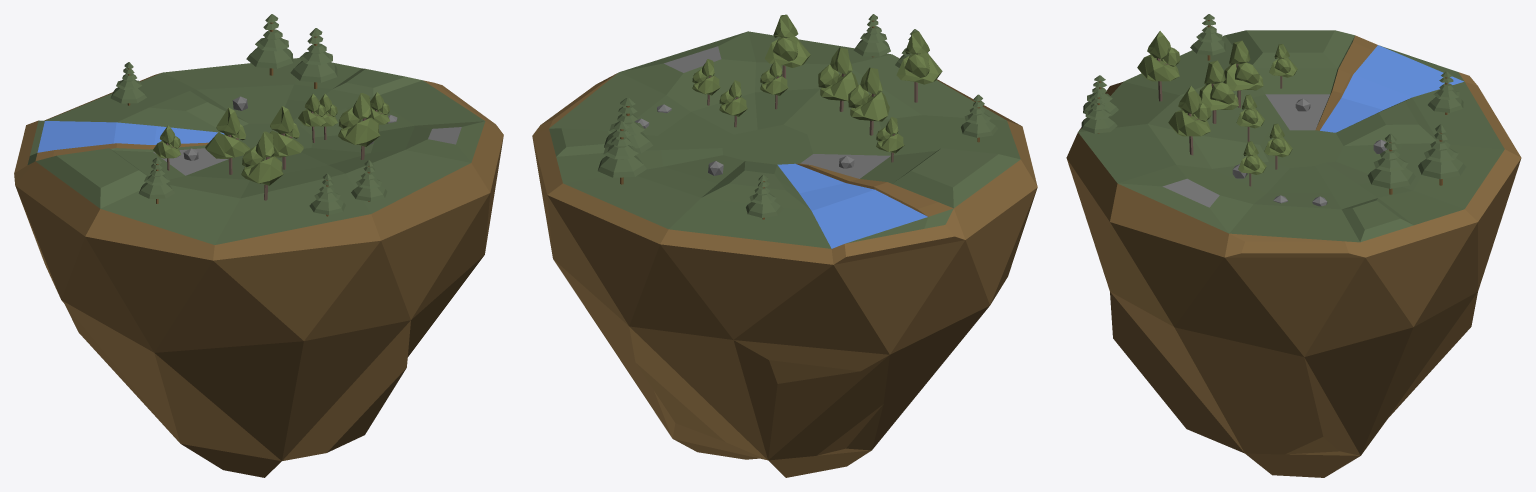
File: forestWater.glb
3 views of the same model, side by side, from view 1: azimuth 30°, elevation 25°; view 2: azimuth 150°, elevation 25°; view 3: azimuth 270°, elevation 25° (orthographic). The views are drawn at different scales.
Visible parts, largest first — view 1: planet, Tree Type4 01 Model.009, Tree Type4 01 Model.010, Cone.006, Cone.005, Tree Type4 01 Model.006, Tree Type4 01 Model.008, Cone.002, Cone.003, Cone.004, Cone.001, Tree Type4 01 Model.005 (+1 smaller); view 2: planet, Tree Type4 01 Model.006, Cone.006, Tree Type4 01 Model.009, Tree Type4 01 Model.008, Tree Type4 01 Model.010, Cone.005, Cone.002, Cone.001, Cone.003, Tree Type4 01 Model.005, Tree Type4 01 Model.007 (+2 smaller); view 3: planet, Tree Type4 01 Model.009, Tree Type4 01 Model.010, Cone.006, Cone.005, Tree Type4 01 Model.006, Tree Type4 01 Model.008, Cone.001, Cone.002, Cone.003, Tree Type4 01 Model, Tree Type4 01 Model.005 (+3 smaller).
Boxes of the visible parts, <box> form: planet: <box>14,58,503,477</box>; Tree Type4 01 Model.009: <box>241,131,283,200</box>; Tree Type4 01 Model.010: <box>338,93,380,159</box>; Cone.006: <box>246,14,293,75</box>; Cone.005: <box>290,28,337,88</box>; Tree Type4 01 Model.006: <box>205,107,249,174</box>; Tree Type4 01 Model.008: <box>270,106,303,169</box>; Cone.002: <box>138,157,174,203</box>; Cone.003: <box>110,62,146,105</box>; Cone.004: <box>309,173,345,216</box>; Cone.001: <box>351,160,387,201</box>; Tree Type4 01 Model.005: <box>298,94,326,142</box>; planet: <box>532,31,1037,477</box>; Tree Type4 01 Model.006: <box>848,67,889,135</box>; Cone.006: <box>598,121,646,184</box>; Tree Type4 01 Model.009: <box>896,31,942,102</box>; Tree Type4 01 Model.008: <box>818,47,858,111</box>; Tree Type4 01 Model.010: <box>764,14,810,78</box>; Cone.005: <box>604,97,652,153</box>; Cone.002: <box>961,94,997,142</box>; Cone.001: <box>853,14,890,57</box>; Cone.003: <box>746,174,782,219</box>; Tree Type4 01 Model.005: <box>760,59,788,109</box>; Tree Type4 01 Model.007: <box>692,59,720,105</box>; planet: <box>1066,30,1521,477</box>; Tree Type4 01 Model.009: <box>1137,31,1180,101</box>; Tree Type4 01 Model.010: <box>1168,86,1211,155</box>; Cone.006: <box>1418,124,1465,185</box>; Cone.005: <box>1367,133,1415,194</box>; Tree Type4 01 Model.006: <box>1223,40,1263,107</box>; Tree Type4 01 Model.008: <box>1199,60,1238,123</box>; Cone.001: <box>1081,91,1117,133</box>; Cone.002: <box>1190,14,1225,60</box>; Cone.003: <box>1428,71,1463,114</box>; Tree Type4 01 Model: <box>1264,123,1292,169</box>; Tree Type4 01 Model.005: <box>1236,94,1264,141</box>.
Bounding box in the file's own units: 2.8 × 2.49 × 2.62.
